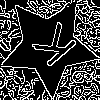K: (24, 21, 79, 76)
